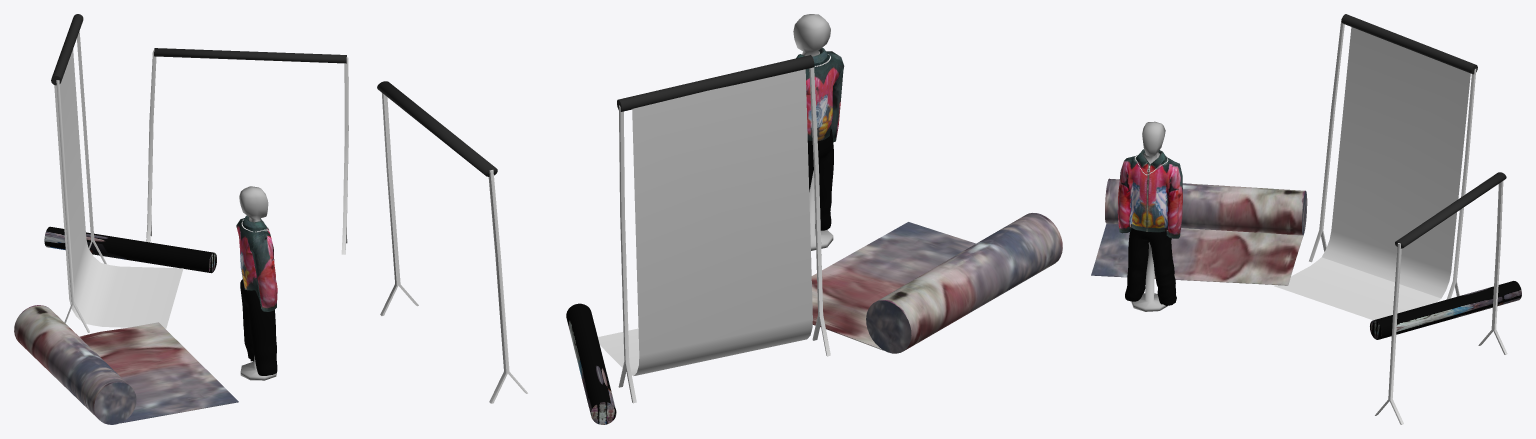
The model's file is clothing_stuff.glb.
The picture shows the model from 3 angles, left to right: view 1: azimuth 30°, elevation 25°; view 2: azimuth 150°, elevation 25°; view 3: azimuth 270°, elevation 25°; orthographic projection. The views are drawn at different scales.
Visible parts, largest first — view 1: Cylinder.003, Cube.003, mannequin, Cylinder.001, Cube.018, clothing rack; view 2: Cube.003, Cylinder.003, mannequin, Cylinder.001, Cube.018, clothing rack; view 3: Cube.003, Cylinder.003, mannequin, Cylinder.001, Cube.018, clothing rack.
Boxes of the visible parts, x1,y1,x2,y2 form: Cylinder.003: (14,305,238,424); Cube.003: (51,14,183,332); mannequin: (236,186,277,380); Cylinder.001: (44,226,216,273); Cube.018: (146,50,348,254); clothing rack: (154,48,346,63); Cube.003: (598,55,830,403); Cylinder.003: (811,213,1062,353); mannequin: (793,14,844,250); Cylinder.001: (566,303,616,424); Cube.018: (380,93,527,403); clothing rack: (377,81,497,176); Cube.003: (1274,14,1477,320); Cylinder.003: (1091,178,1307,285); mannequin: (1117,121,1182,311); Cylinder.001: (1370,281,1521,339); Cube.018: (1375,181,1507,424); clothing rack: (1395,172,1506,248).
Bounding box in the file's own units: 8.79 × 5.54 × 8.35.
Materials: 10 (4 with a texture image).
